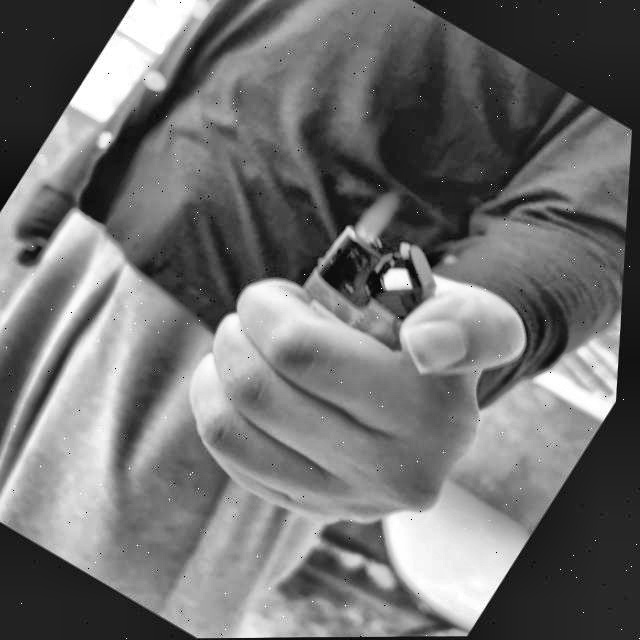Fire: (348, 184, 409, 251)
